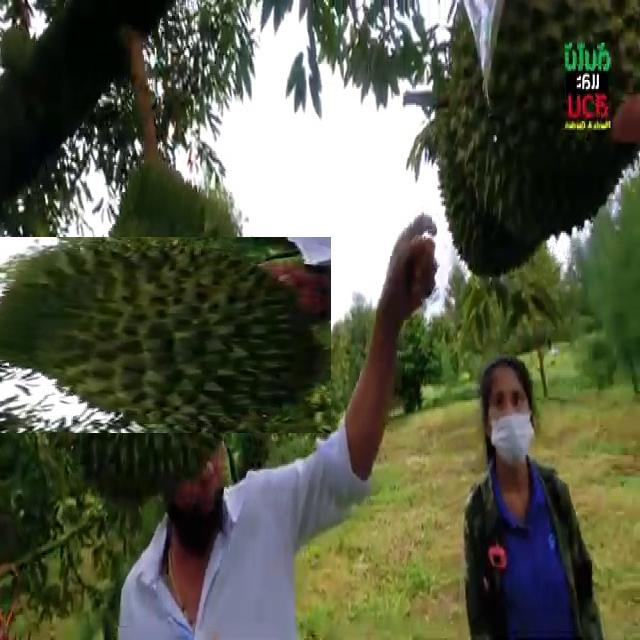durian: (14, 196, 292, 474), (442, 0, 638, 241)
